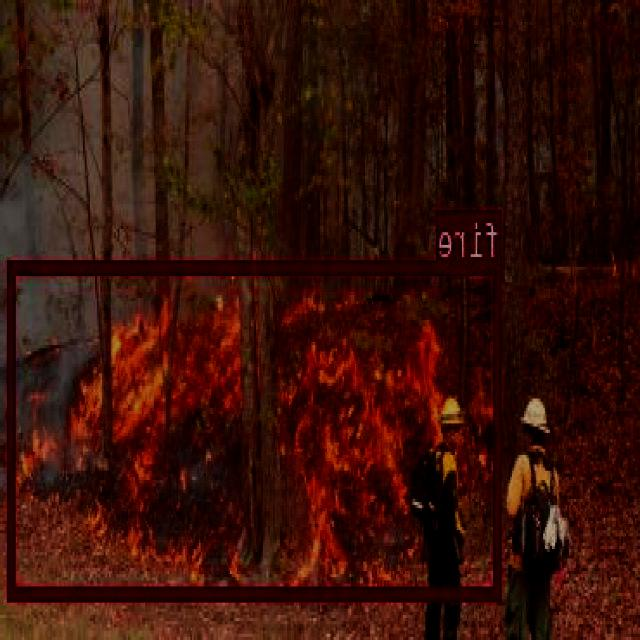fire: (10, 258, 502, 598)
